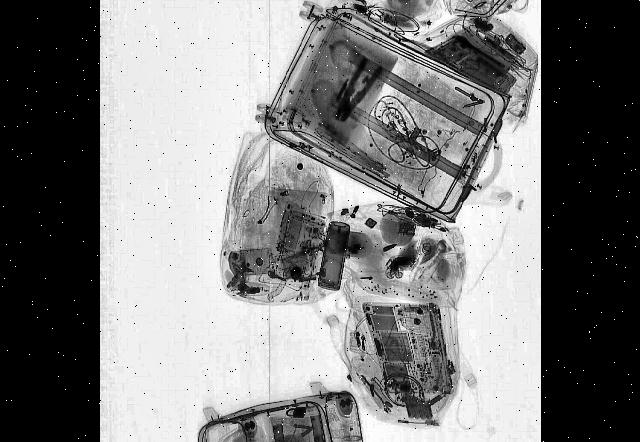Pliers: (328, 47, 382, 131)
Wrench: (453, 31, 505, 72)
